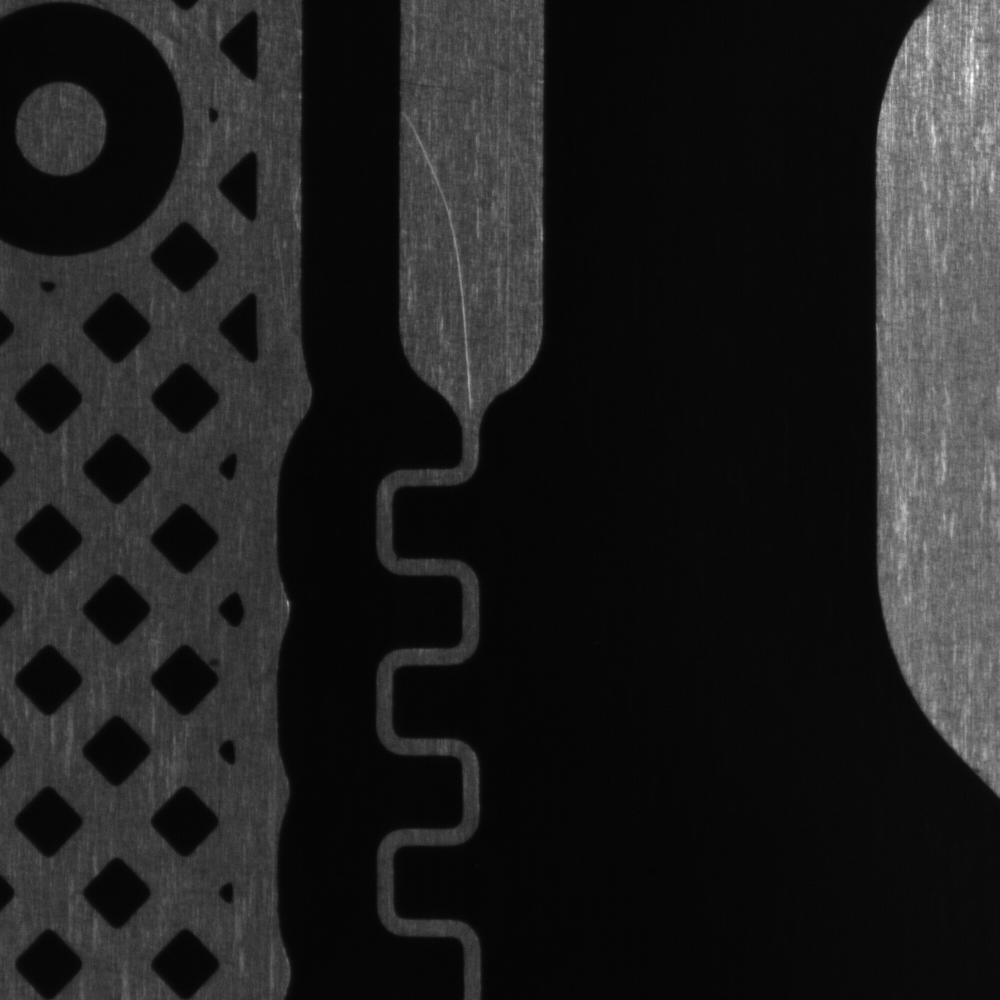Scar: (401, 106, 518, 412)
